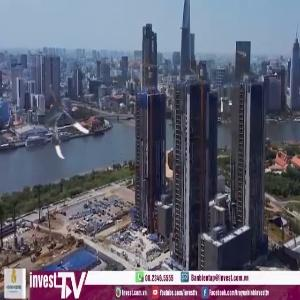drone: (22, 80, 102, 160)
